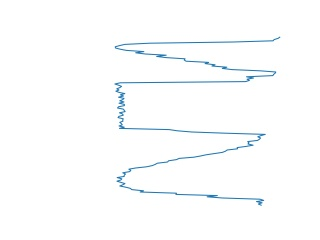distributaryChannelFill: (110, 73, 270, 140)
mouthBar: (111, 34, 281, 77)
underwaterDistributaryChannel: (113, 138, 270, 206)
